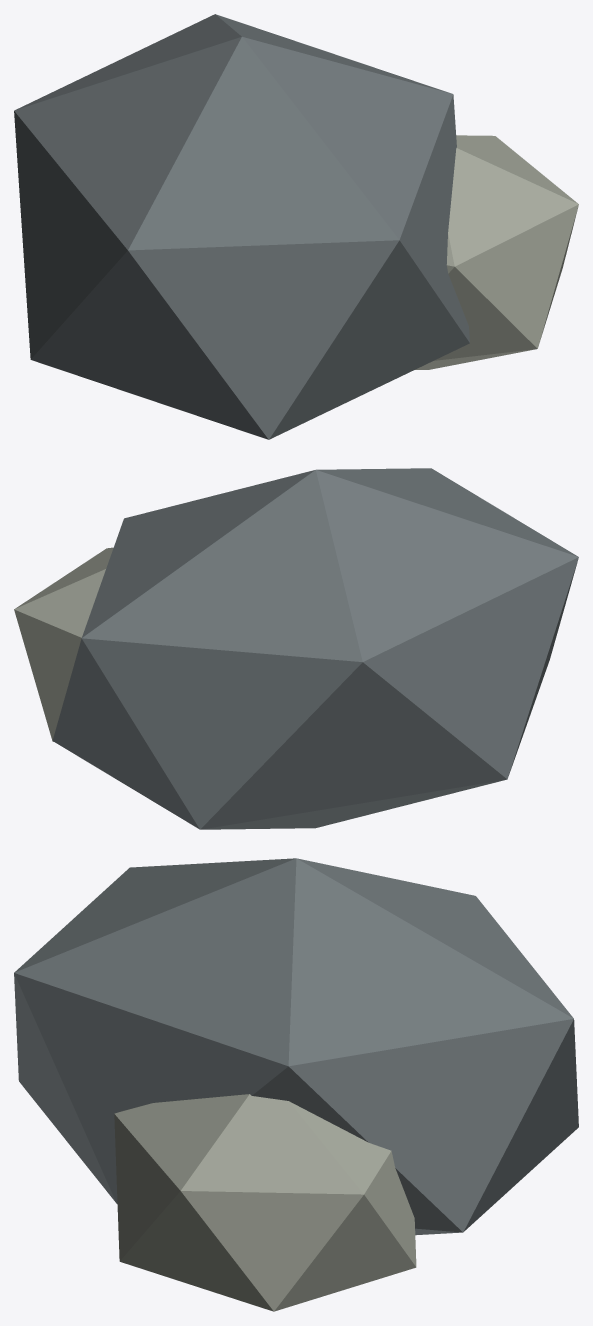
File: Rock_A.fbx
The picture shows the model from 3 angles, top to bottom: view 1: azimuth 30°, elevation 25°; view 2: azimuth 150°, elevation 25°; view 3: azimuth 270°, elevation 25°; orthographic projection. The views are drawn at different scales.
Parts seen in each view (by area): view 1: Rock_A; view 2: Rock_A; view 3: Rock_A.
Boxes of the visible parts, x1,y1,x2,y2 form: Rock_A: (14, 14, 578, 439); Rock_A: (14, 468, 578, 829); Rock_A: (14, 858, 578, 1311).
Size of the model in its own units: 0.512 by 0.36 by 0.4807.
Materials: 1 (1 with a texture image).
